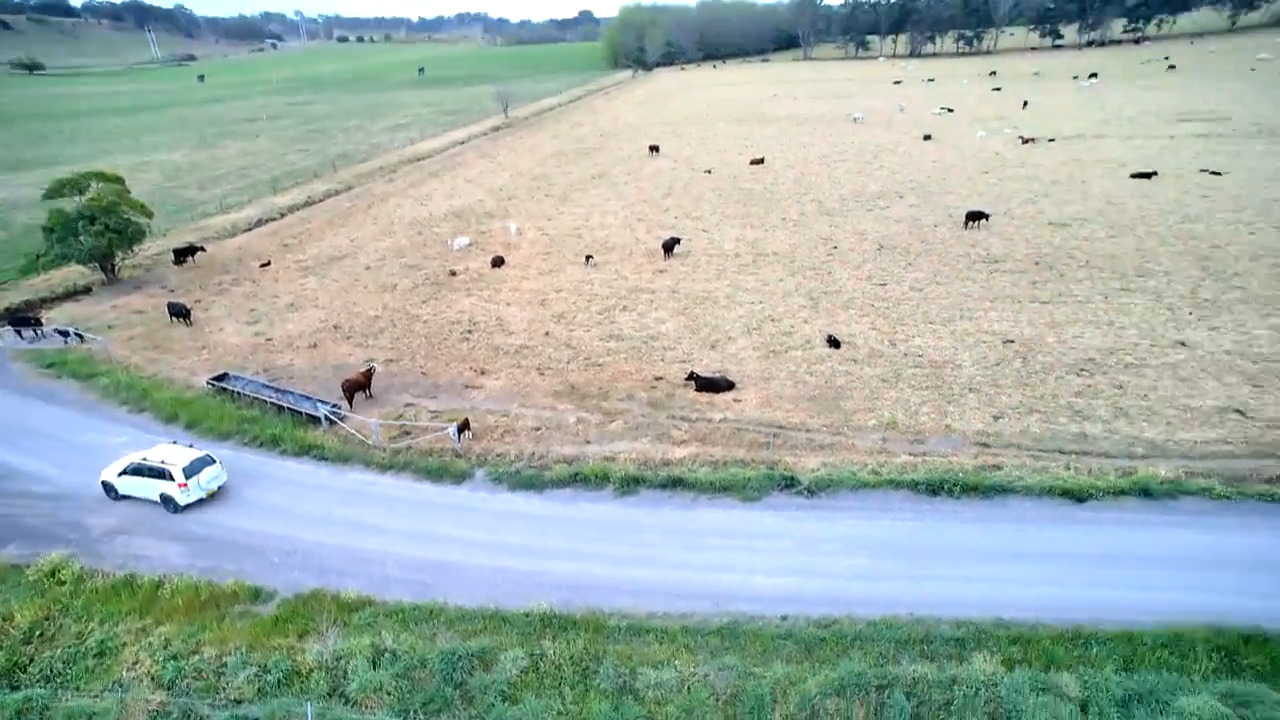Car: (99, 441, 227, 513)
